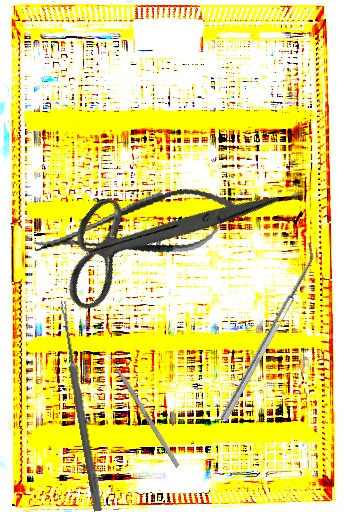Iris Scissors: (38, 110, 280, 362)
Micro Scissor: (29, 178, 248, 276)
Pusher: (99, 343, 181, 468)
Spatula Surgical: (213, 242, 322, 422)
Surgical Spoon: (57, 300, 104, 512)
